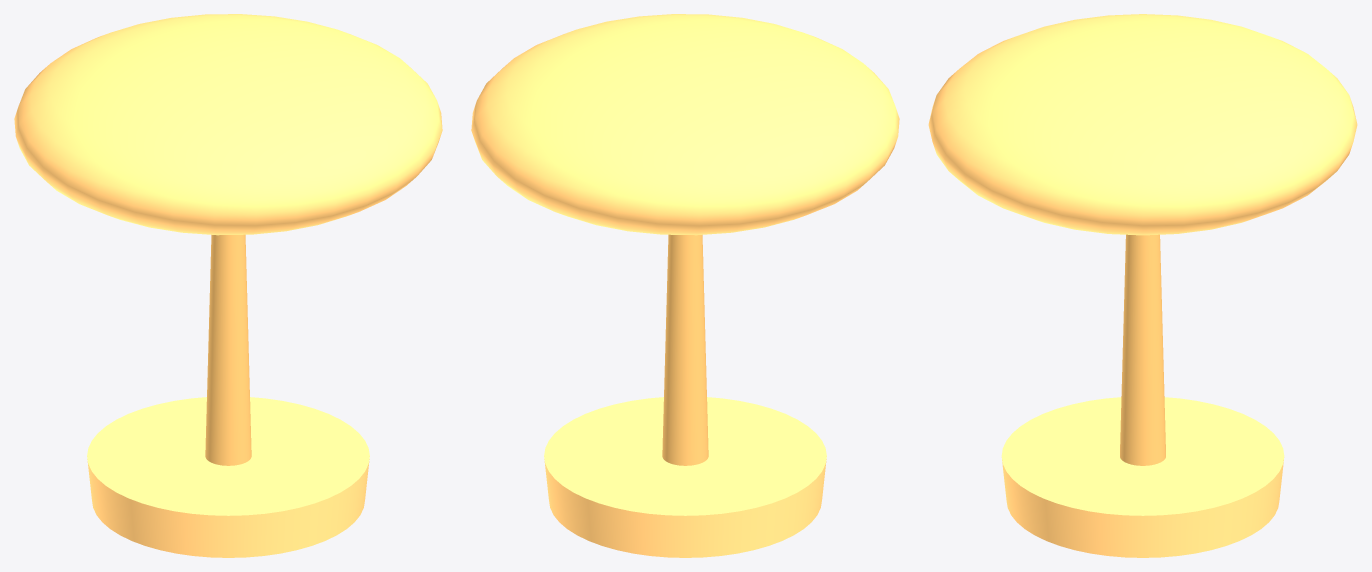
Rendered from opal_saucer.glb.
The picture shows the model from 3 angles, left to right: view 1: azimuth 30°, elevation 25°; view 2: azimuth 150°, elevation 25°; view 3: azimuth 270°, elevation 25°; orthographic projection.
Parts seen in each view (by area): view 1: opal_saucer; view 2: opal_saucer; view 3: opal_saucer.
Part boxes in pixels (x1,y1,x2,y2): opal_saucer: [14, 14, 442, 557]; opal_saucer: [471, 14, 899, 557]; opal_saucer: [928, 14, 1357, 557].
Size of the model in its own units: 0.44 by 0.497 by 0.44.
